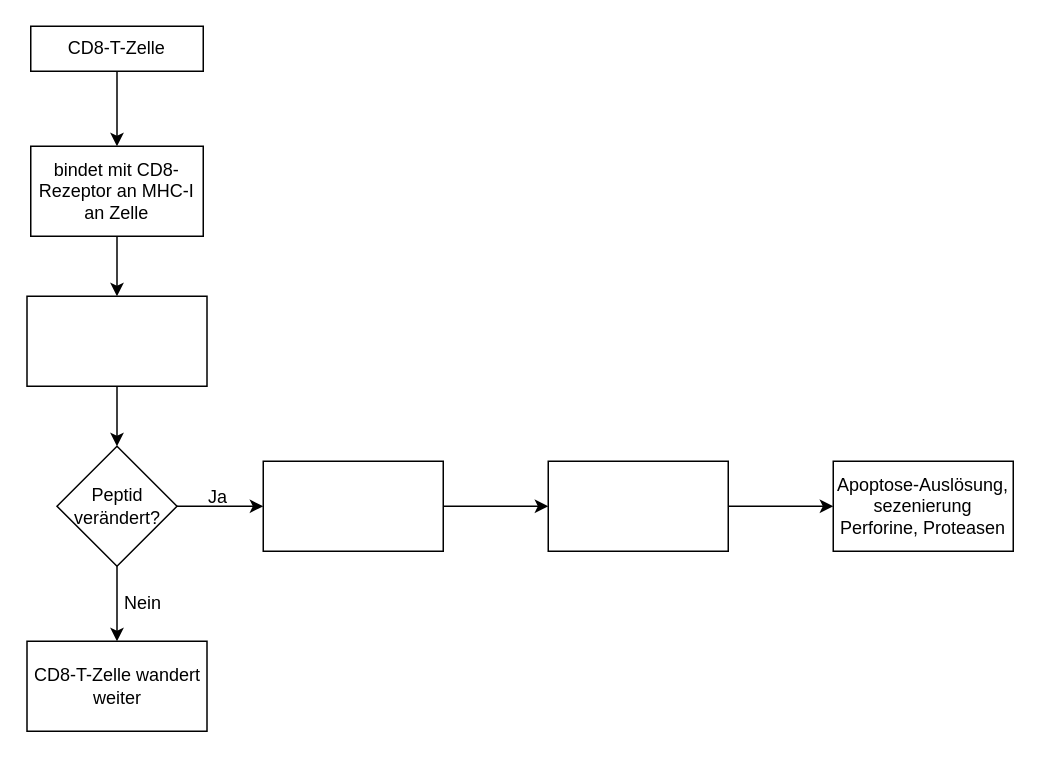
This 1040x758 diagram has some shape labels left out. The shapes that lost their labels are listed below. From the top down, each one's centre as x and y in pixels, then its label:
(x=116, y=340): tastet mit T-Zell-Rezeptor (TCR) präsentierten Peptid "Fingerabdruck" ab
(x=352, y=505): Aktivierung zu Effektorzelle (T-Killer-Zelle)
(x=637, y=505): Bildung von Interleukin-2 (IL-2)
